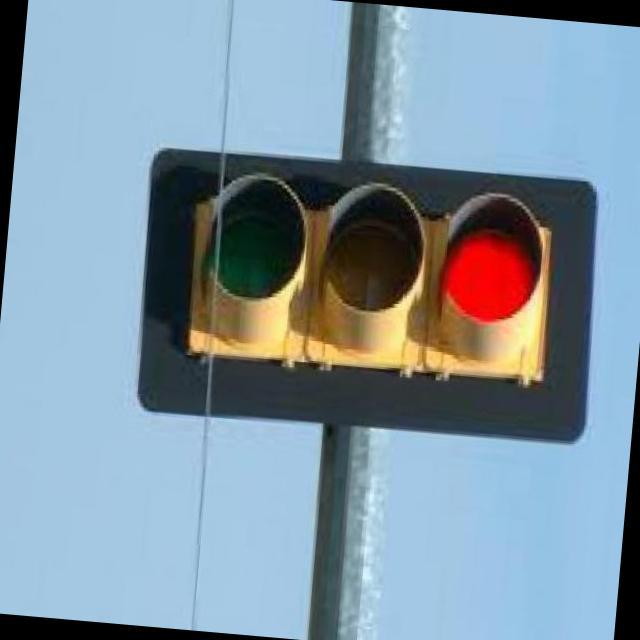red: (431, 203, 549, 332)
